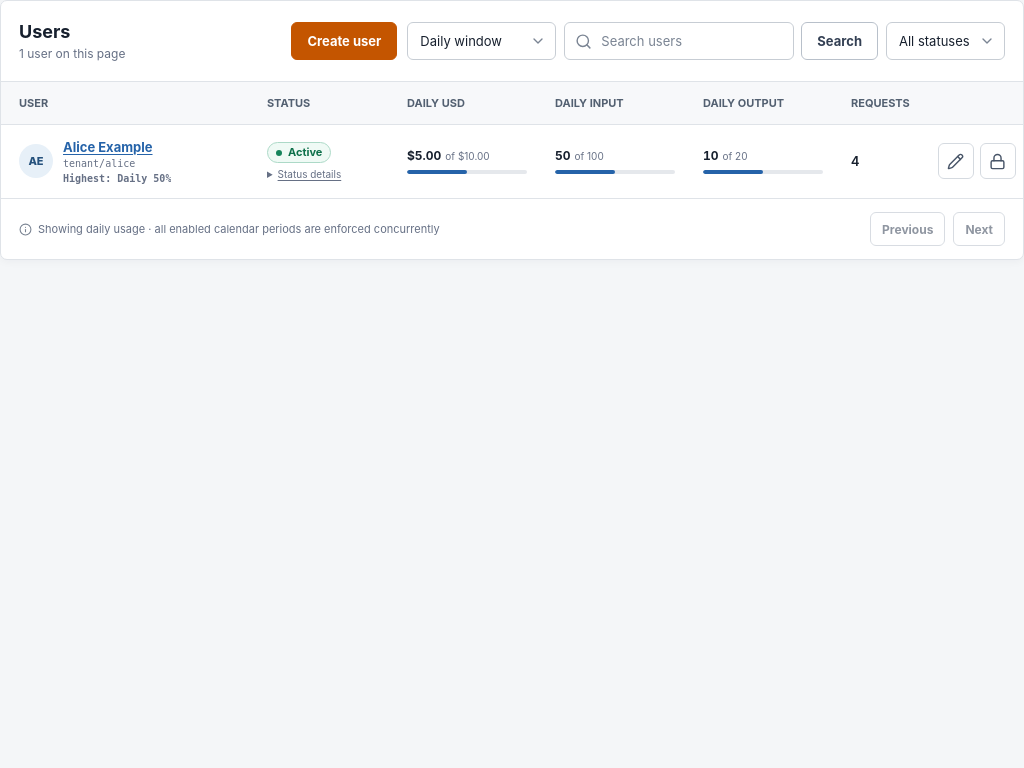
status safety dialog › closes the confirmation when a version conflict shows the status already flipped
The width and height of the screenshot is (1024, 768).
Click the button named "Block Alice Example". click: (998, 161)
box: [980,143,1016,179]
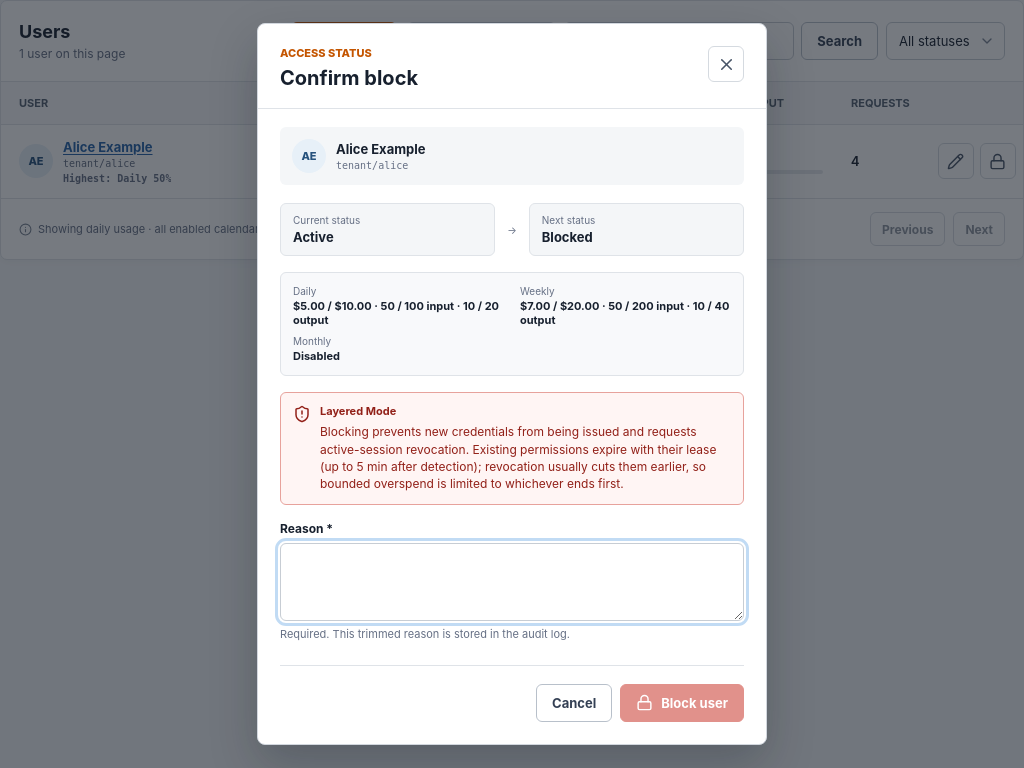
Type "Policy request" into the text box labelled "Reason *". click: (512, 582)
box: [280,543,744,621]
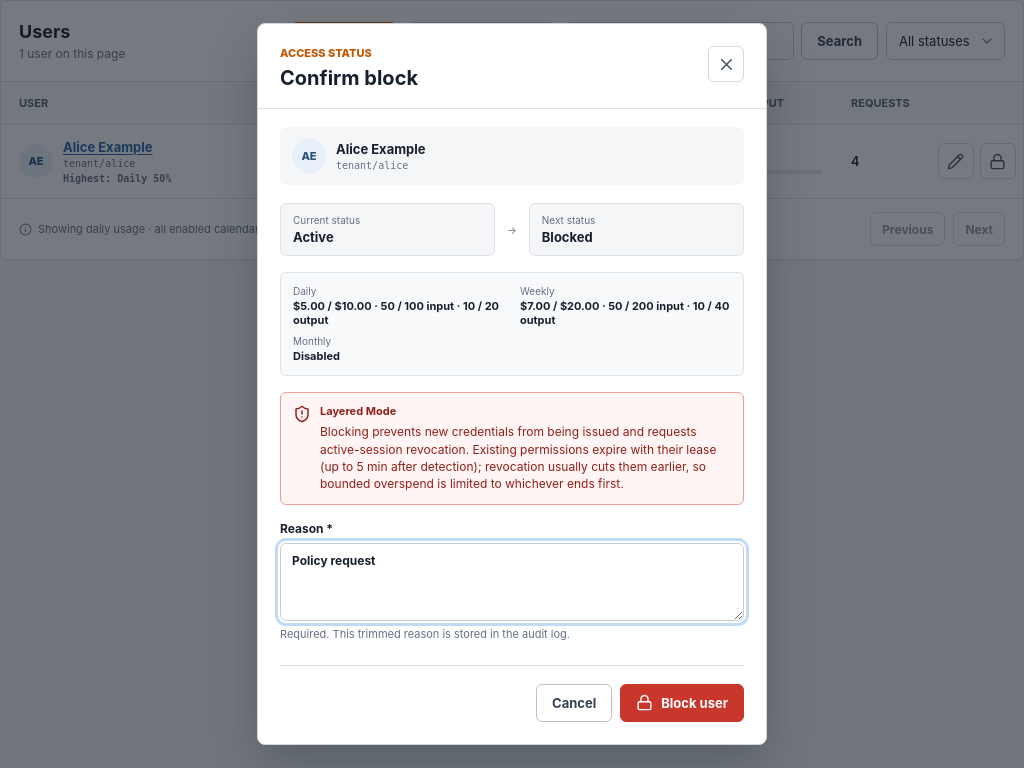
Click the button "Block user". click: (682, 703)
box: [620,684,744,722]
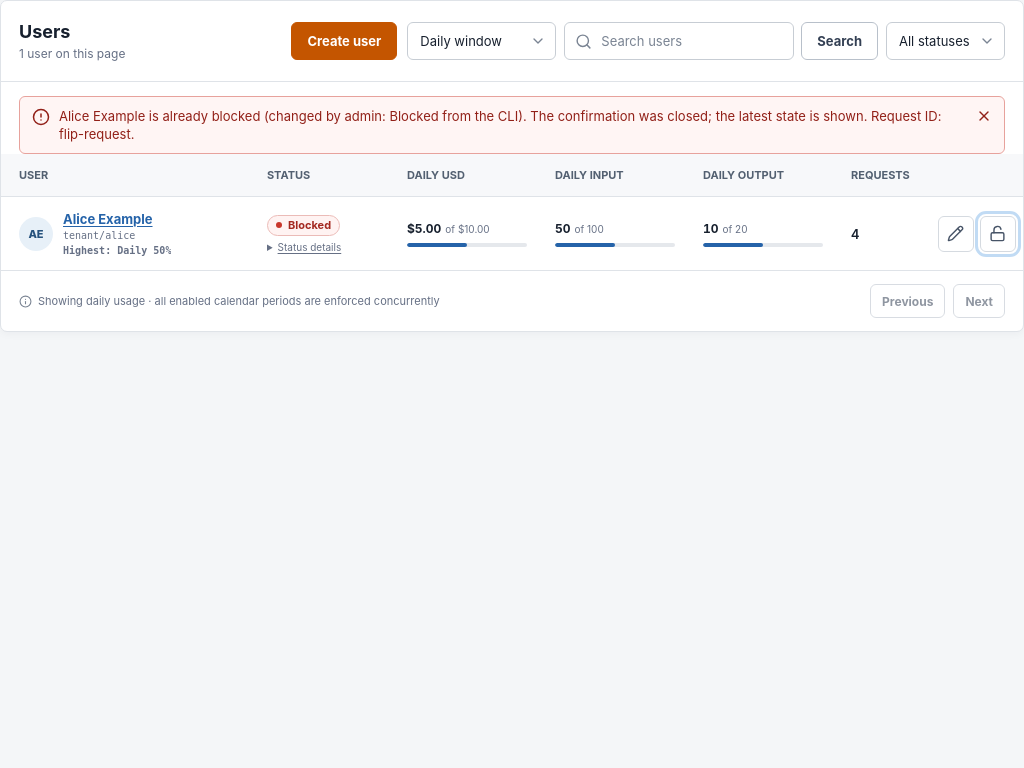
Result: the dialog is gone
Result: the message shows "Alice Example is already blocked (changed by admin: Blocked from the CLI). The confirmation was closed; the latest state is shown. Request ID: flip-request." at [59,108,941,142]
Result: the text "blocked" is shown at [267,215,340,236]
